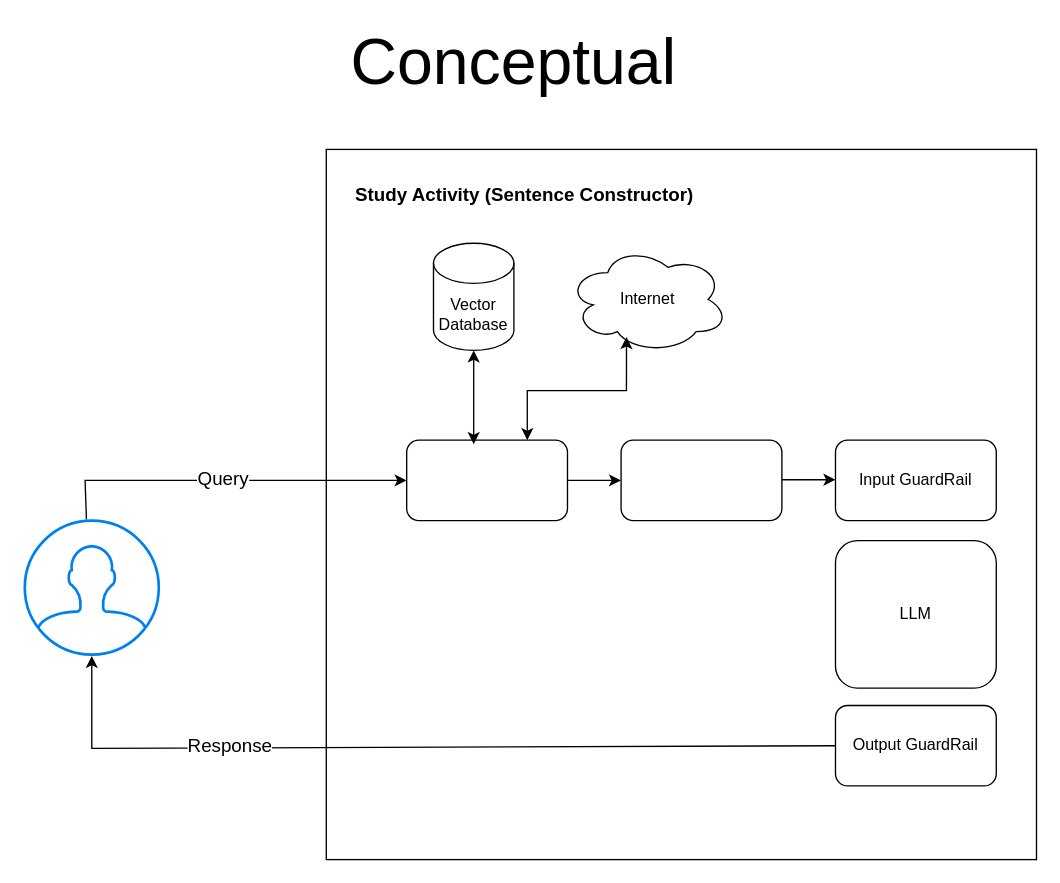
The diagram is 1060 pixels wide and 883 high, and some of its shapes have lost their labels. The centre of each missing label's shape, as x and y in pixels:
Prompt Cache: [701,480]
RAG: [486,480]
